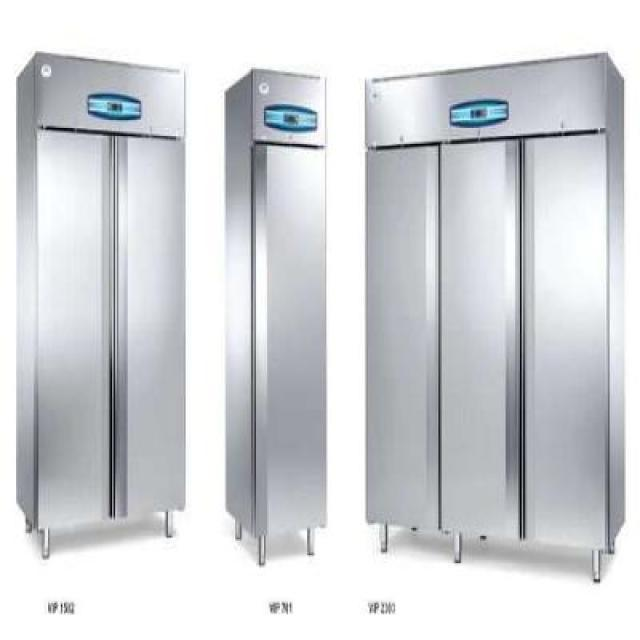refrigerator: (363, 47, 608, 556), (32, 50, 187, 537), (252, 68, 327, 538)
